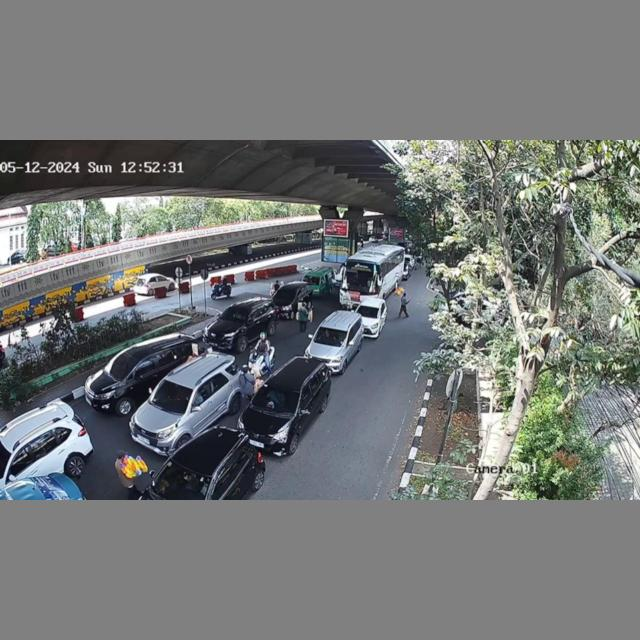windshield: (254, 382, 300, 417), (149, 379, 188, 412), (313, 324, 349, 348), (218, 304, 252, 323), (356, 303, 382, 320)
